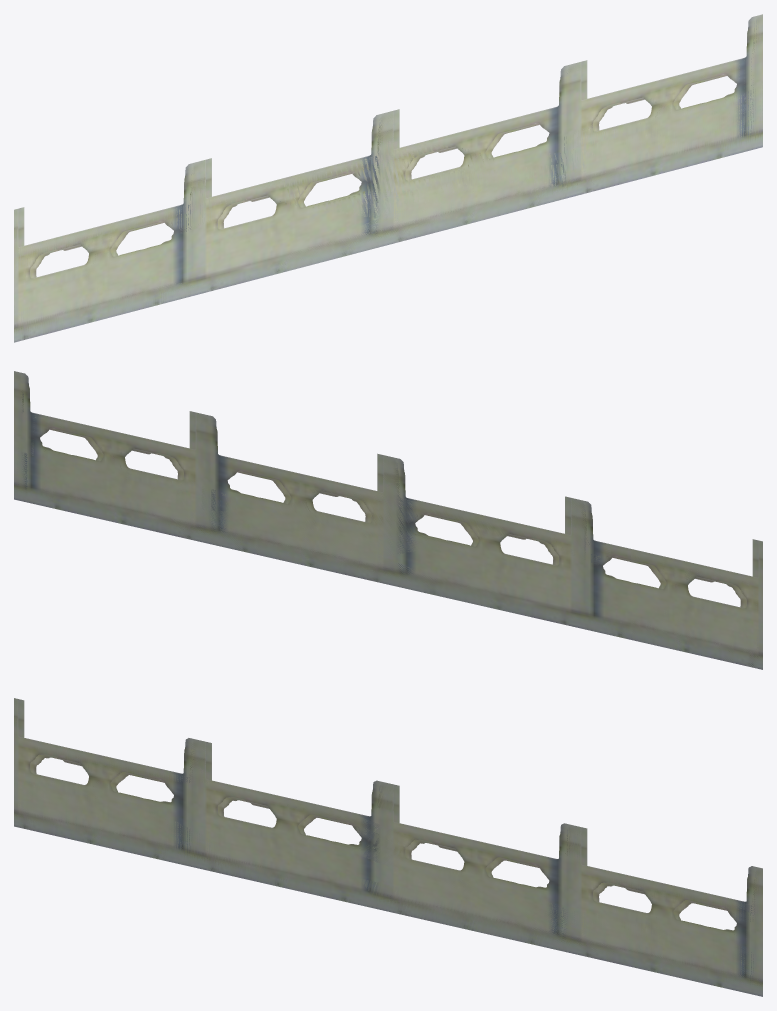
File: 人民英雄纪念碑97.dae
The picture shows the model from 3 angles, top to bottom: view 1: azimuth 30°, elevation 25°; view 2: azimuth 150°, elevation 25°; view 3: azimuth 330°, elevation 25°; orthographic projection. The views are drawn at different scales.
Visible parts, largest first — view 1: SketchUp; view 2: SketchUp; view 3: SketchUp.
Part boxes in pixels (x1=…): SketchUp: x1=14, y1=14, x2=762, y2=342; SketchUp: x1=14, y1=371, x2=762, y2=669; SketchUp: x1=14, y1=698, x2=762, y2=996.
Size of the model in its own units: 331 by 9.81 by 55.12.
